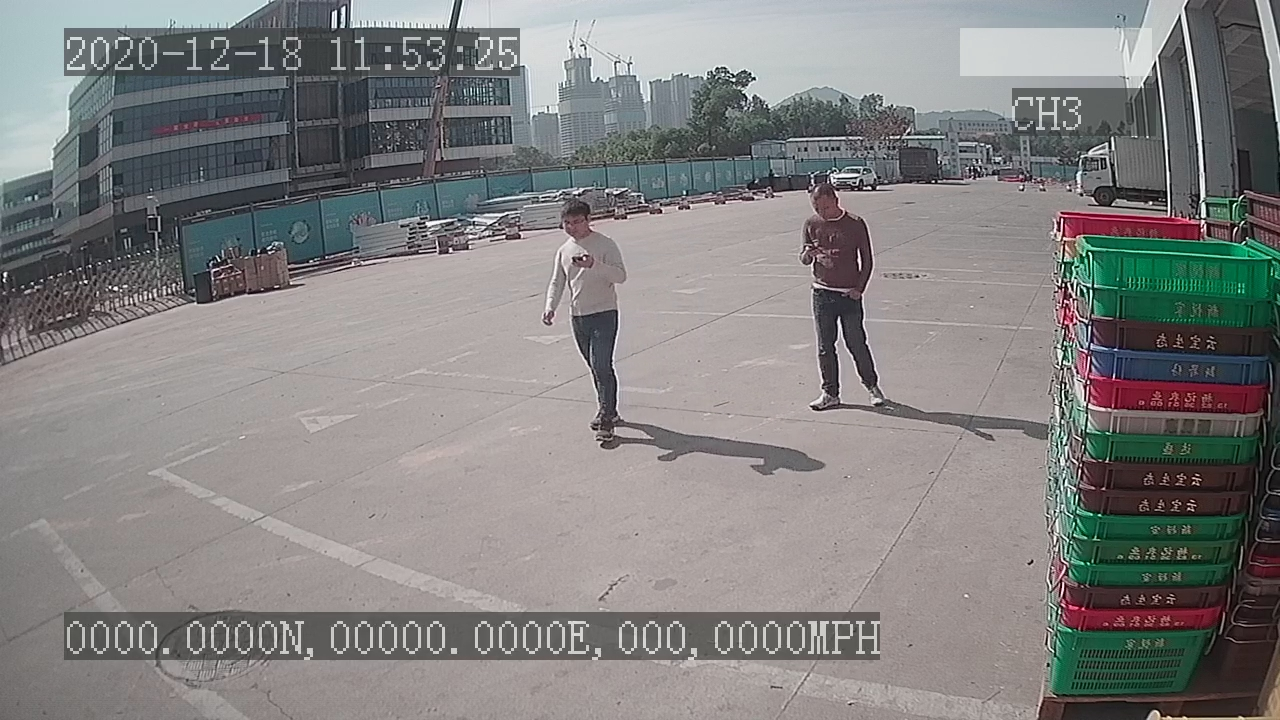person: (531, 192, 633, 451), (792, 177, 897, 417)
